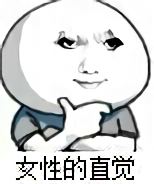dragon: (54, 29, 125, 90)
